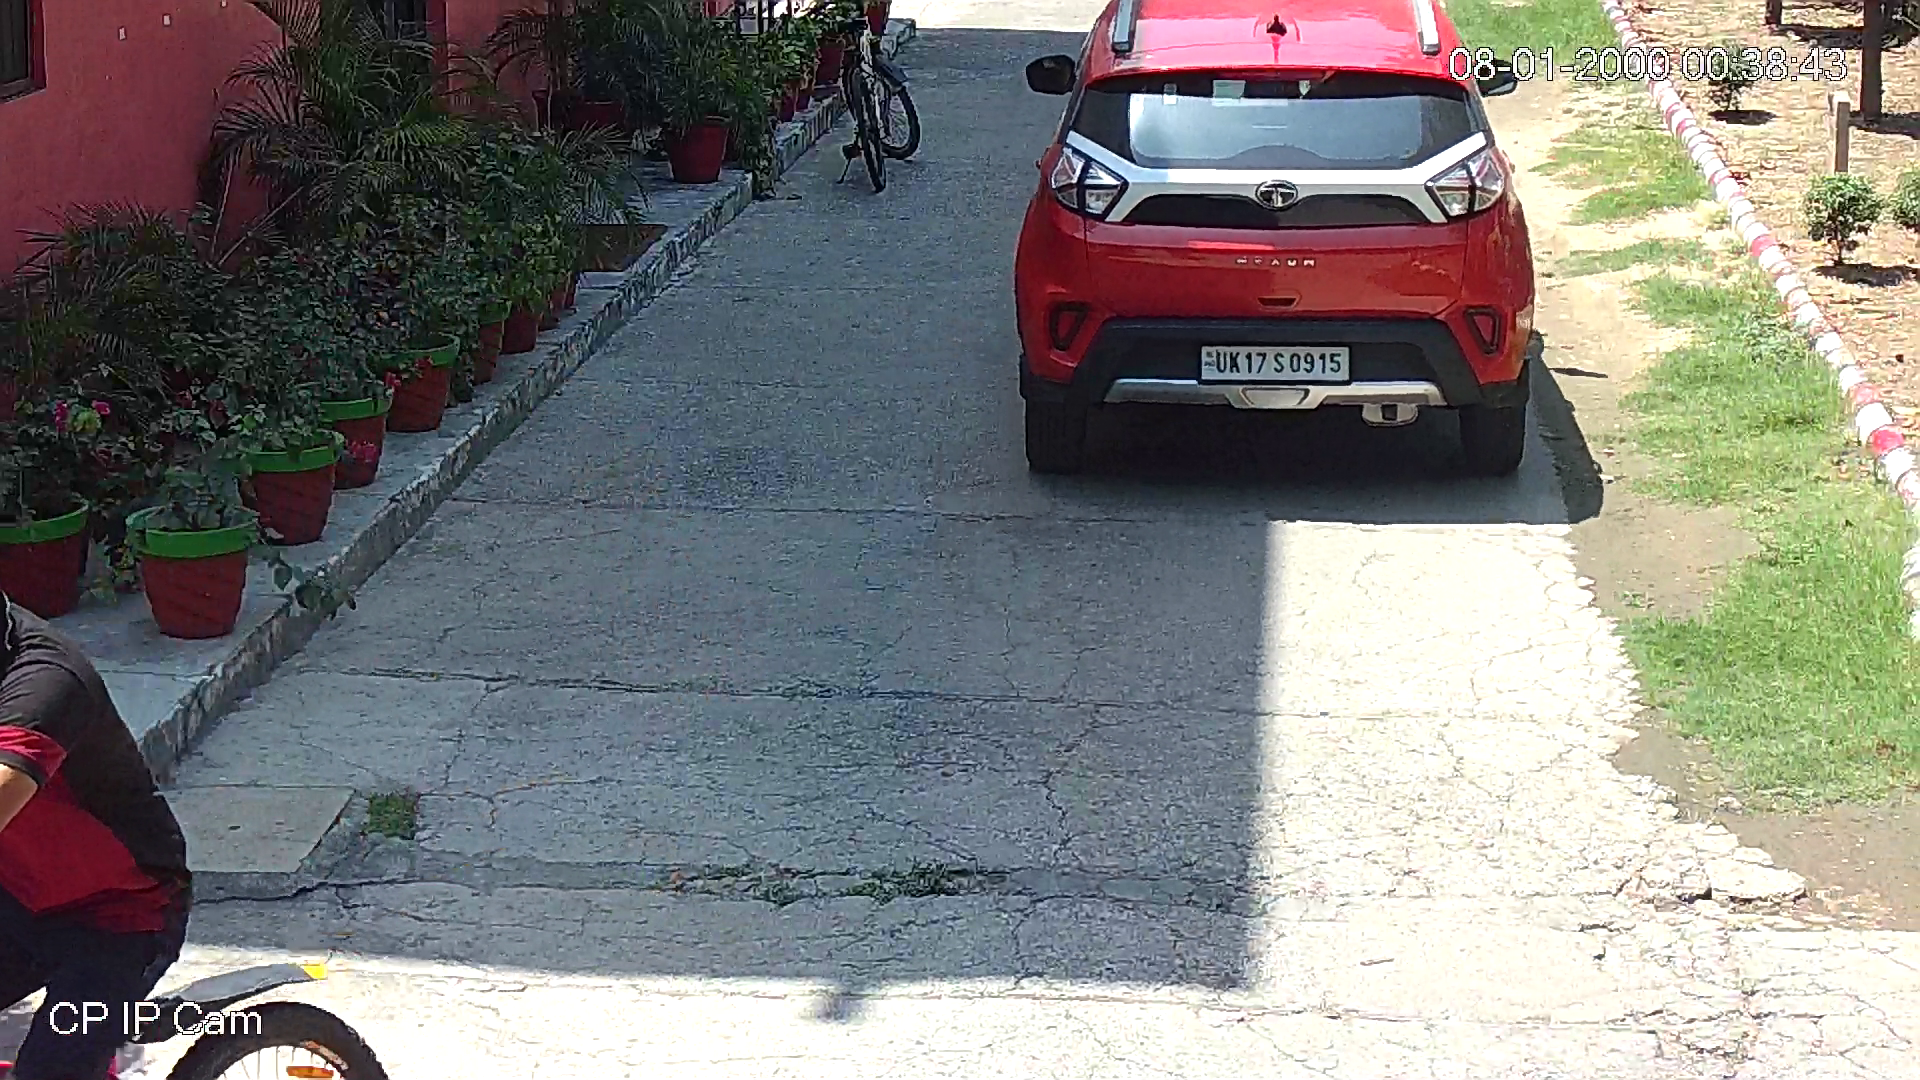plate: (1195, 340, 1357, 385)
